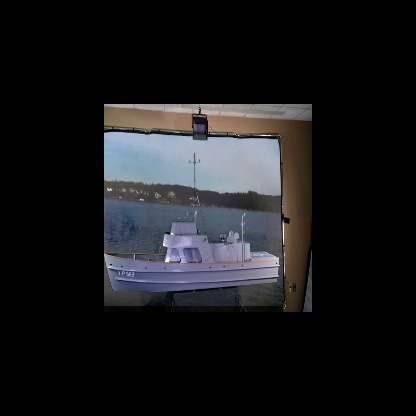YP689: (104, 144, 279, 293)
